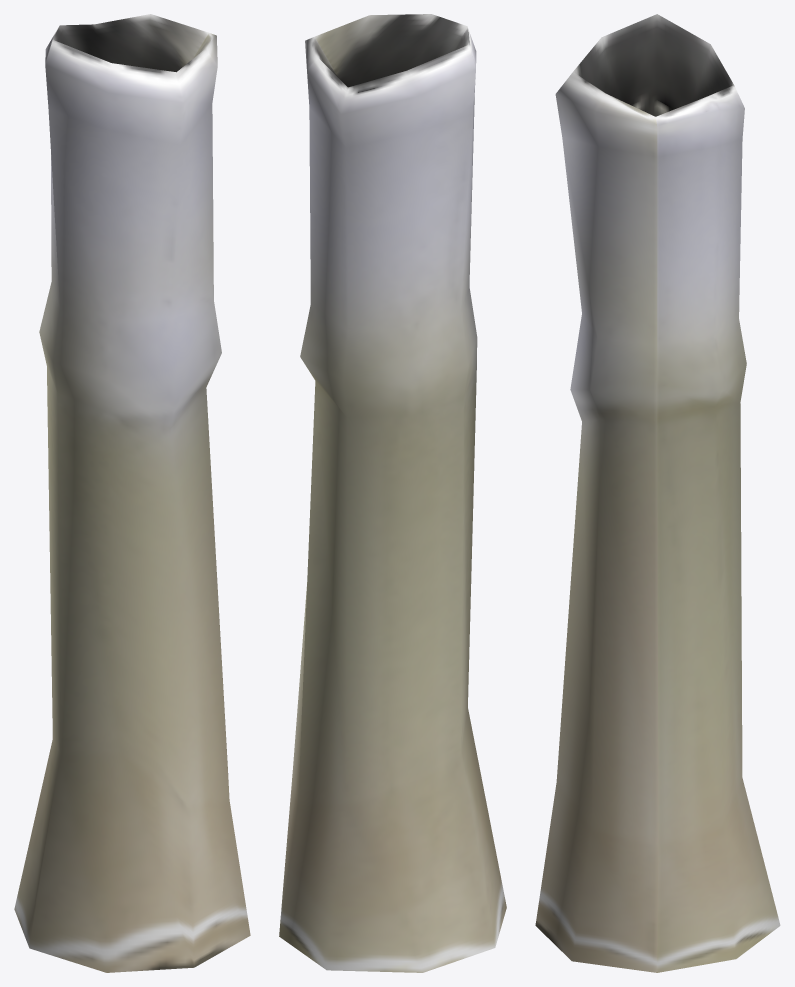
The model's file is Candle01_A02.FBX.
The picture shows the model from 3 angles, left to right: view 1: azimuth 30°, elevation 25°; view 2: azimuth 150°, elevation 25°; view 3: azimuth 270°, elevation 25°; orthographic projection. The views are drawn at different scales.
Visible parts, largest first — view 1: Candle01_A02; view 2: Candle01_A02; view 3: Candle01_A02.
Boxes of the visible parts, bbox=[...] form: Candle01_A02: bbox=[14, 14, 250, 972]; Candle01_A02: bbox=[279, 14, 506, 972]; Candle01_A02: bbox=[535, 14, 780, 972].
Size of the model in its own units: 7.98 by 8.58 by 33.76.
